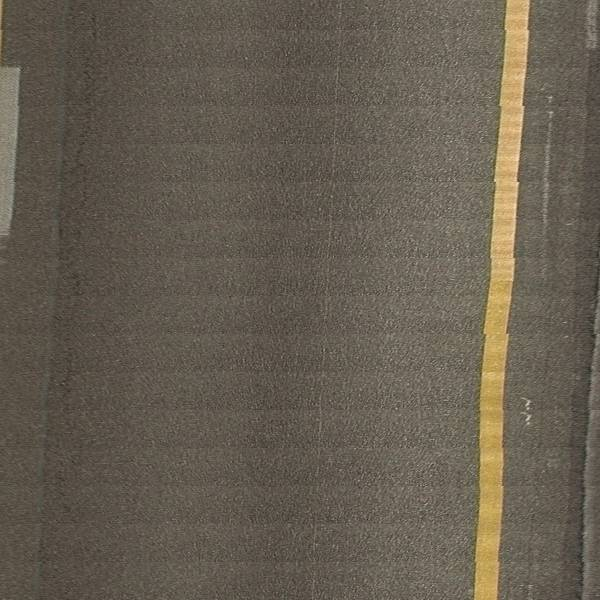road_damage: (48, 65, 98, 525)
